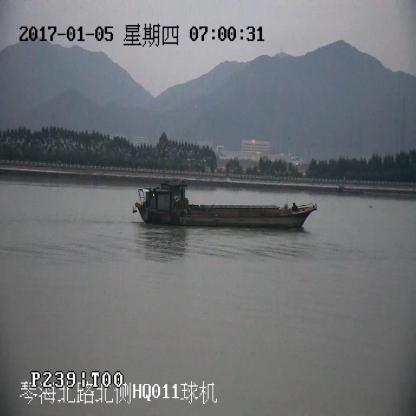Bulk Carrier: (132, 182, 317, 230)
